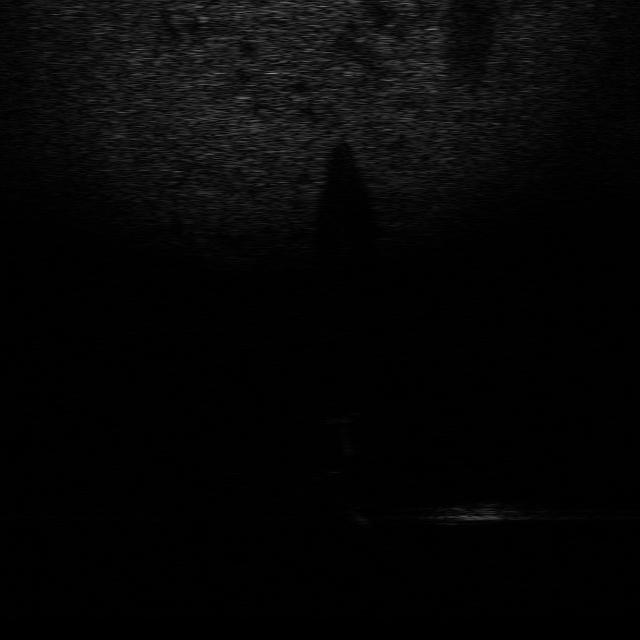ball: (317, 401, 365, 426)
metal bucket: (426, 495, 535, 528)
tyre: (333, 494, 398, 530)
